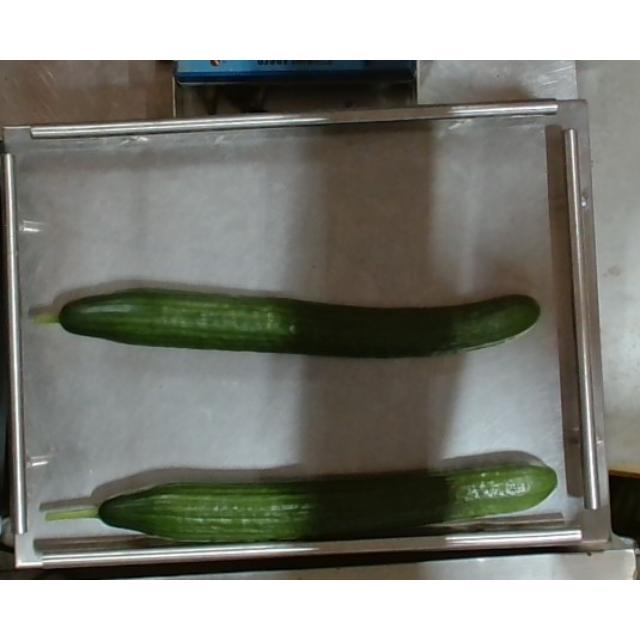cucumber: (39, 464, 561, 548), (31, 280, 539, 358)
